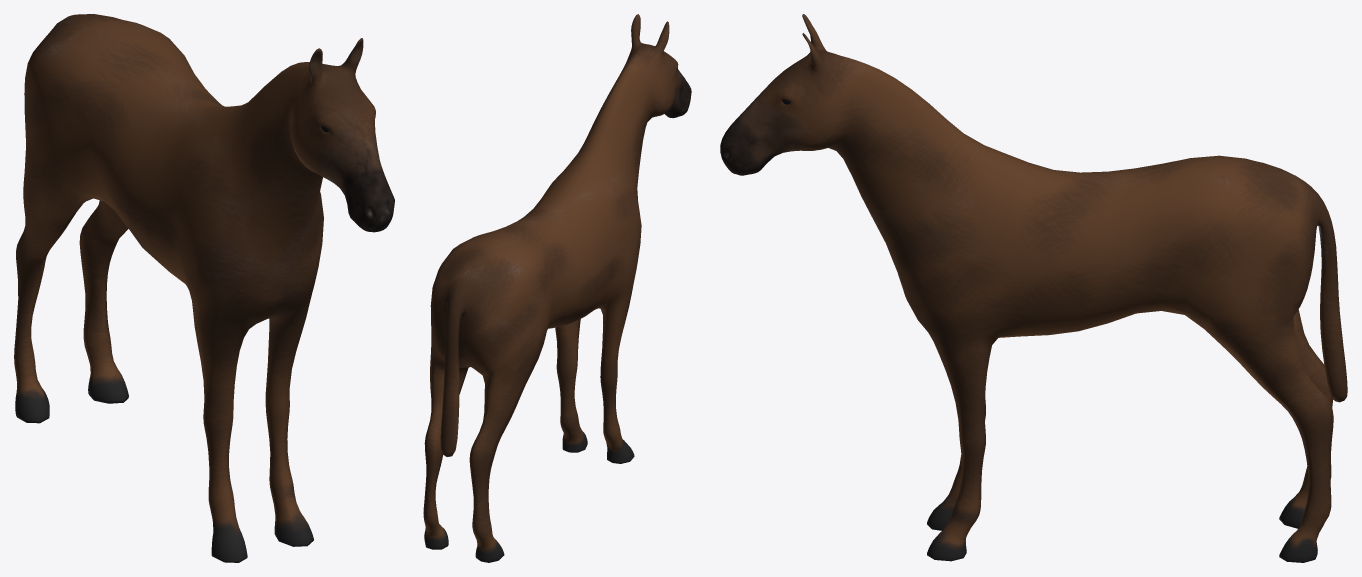
The model's file is horse.fbx.
3 views of the same model, side by side, from view 1: azimuth 30°, elevation 25°; view 2: azimuth 150°, elevation 25°; view 3: azimuth 270°, elevation 25° (orthographic). The views are drawn at different scales.
Visible parts, largest first — view 1: Horse_Base; view 2: Horse_Base; view 3: Horse_Base.
Boxes of the visible parts, x1,y1,x2,y2 form: Horse_Base: (14, 14, 394, 562); Horse_Base: (423, 14, 691, 562); Horse_Base: (720, 14, 1347, 562).
Bounding box in the file's own units: 53.24 × 202 × 222.
2 materials, 2 textured.
